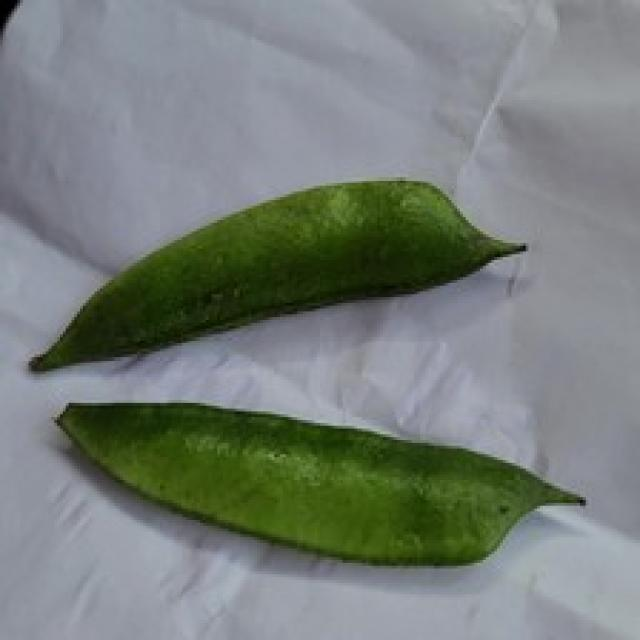Bean: (26, 175, 526, 372), (51, 397, 586, 566)
